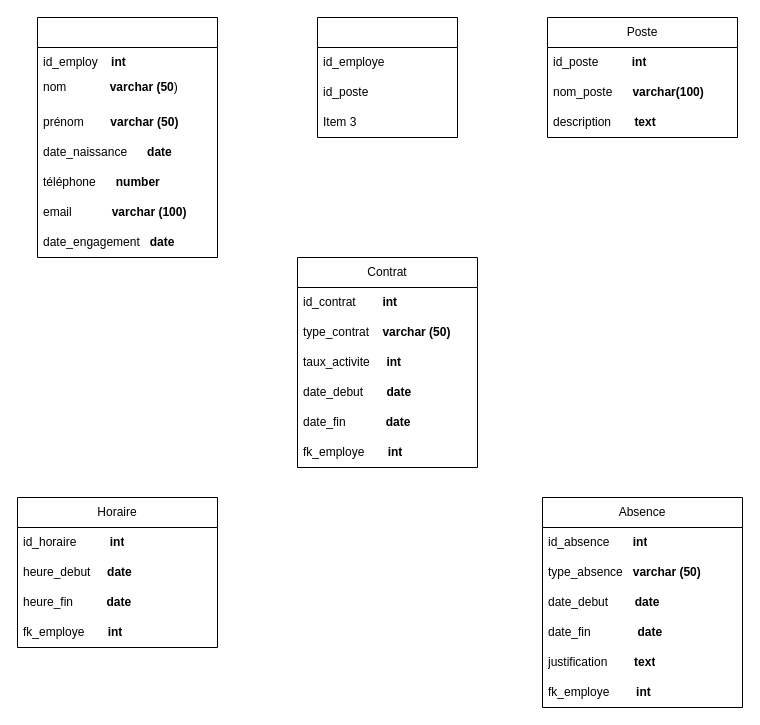
Some shapes in this 760 by 725 pixel diagram are drawn without their labels. The shapes that lost their labels are listed below. From the top down, each one's box as (x1, y1, x2, y2) in pixels, then its label:
(316, 16, 458, 138): Occuper
(36, 16, 218, 258): Employe
